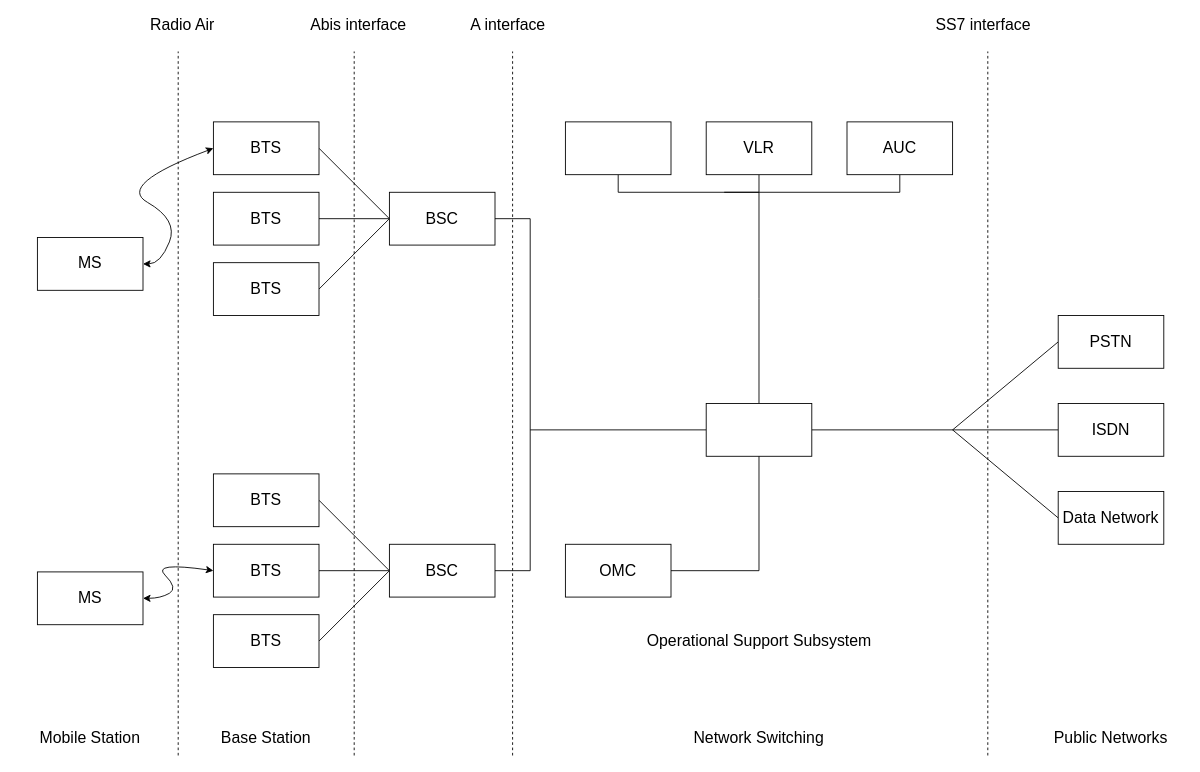
The diagram is 1200 pixels wide and 772 high, and some of its shapes have lost their labels. Here are the shapes that lost their labels. From the top down, the centre of each, then its label:
At [618,148]: "HLR".
At [758,429]: "MSC".
